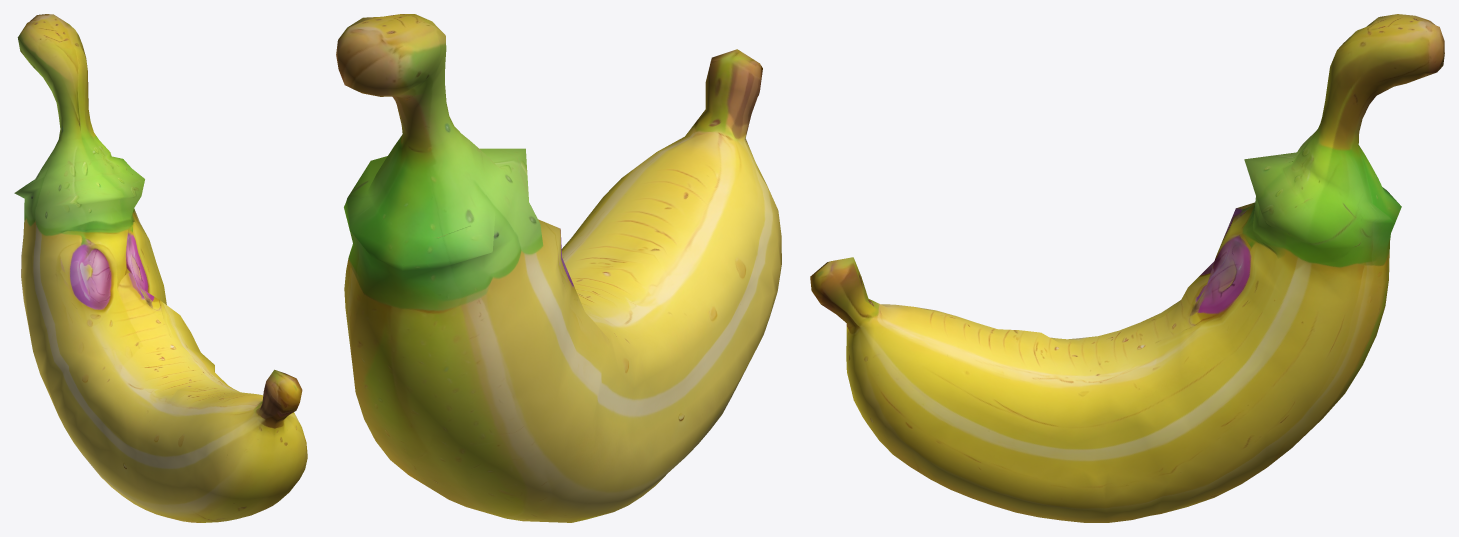
The model's file is bananaMesh.fbx.
3 views of the same model, side by side, from view 1: azimuth 30°, elevation 25°; view 2: azimuth 150°, elevation 25°; view 3: azimuth 270°, elevation 25° (orthographic). The views are drawn at different scales.
Visible parts, largest first — view 1: BananaMesh; view 2: BananaMesh; view 3: BananaMesh.
Part boxes in pixels (bbox=[...]): BananaMesh: bbox=[14, 14, 307, 522]; BananaMesh: bbox=[336, 14, 781, 522]; BananaMesh: bbox=[810, 14, 1444, 522].
Bounding box in the file's own units: 35.11 × 101 × 120.
